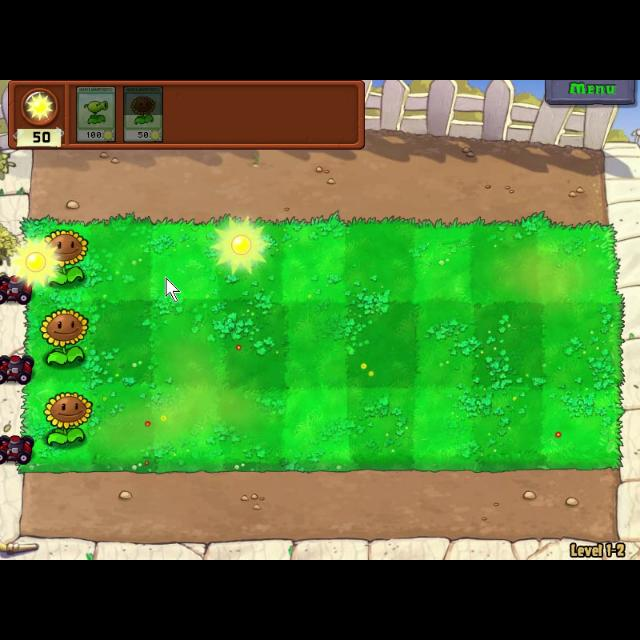Garden: (16, 216, 624, 474)
Menu Button: (542, 80, 640, 104)
Mower: (0, 271, 40, 305), (0, 349, 34, 389), (0, 432, 36, 466)
Peashooter: (74, 84, 116, 144)
Seed Panel: (5, 80, 368, 152)
Sun: (212, 220, 276, 274), (14, 237, 61, 287)
Sunflower: (120, 83, 166, 145)
Sunflower Seed: (38, 388, 96, 448), (34, 309, 90, 367), (36, 229, 90, 289)
